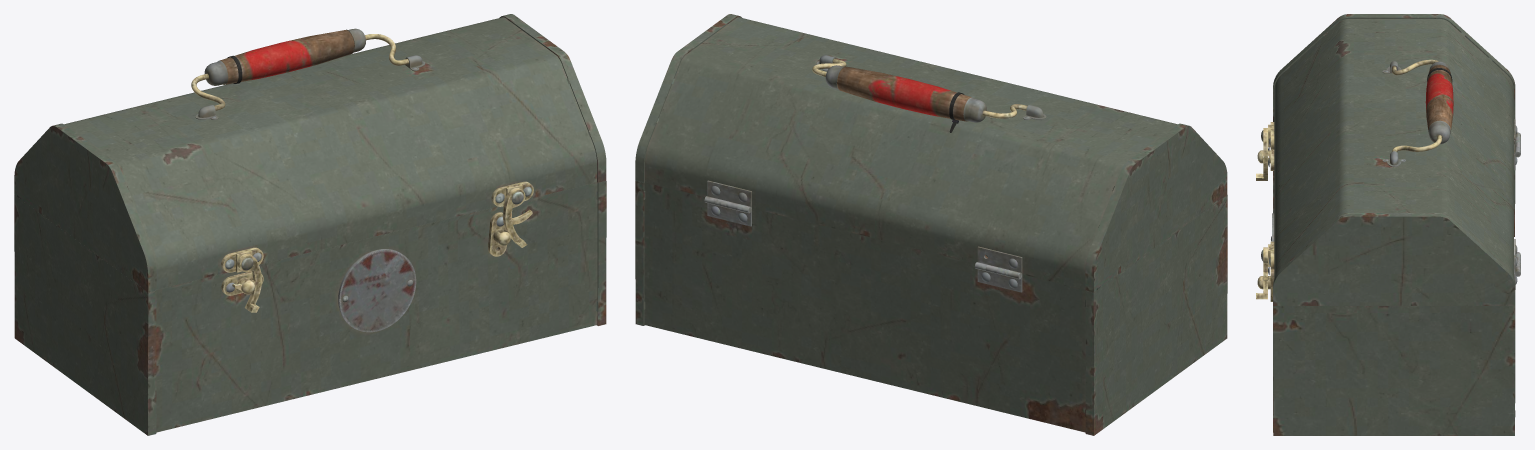
The model's file is metal_toolbox.glb.
The picture shows the model from 3 angles, left to right: view 1: azimuth 30°, elevation 25°; view 2: azimuth 150°, elevation 25°; view 3: azimuth 270°, elevation 25°; orthographic projection. The views are drawn at different scales.
Visible parts, largest first — view 1: LidHinge, Body, Handle, LatchR, LatchL; view 2: LidHinge, Body, Handle; view 3: LidHinge, Body, Handle, LatchL, LatchR.
Part boxes in pixels (x1=…): LidHinge: x1=14, y1=14, x2=606, y2=292; Body: x1=14, y1=181, x2=606, y2=435; Handle: x1=191, y1=28, x2=408, y2=110; LatchR: x1=503, y1=188, x2=532, y2=247; LatchL: x1=232, y1=253, x2=261, y2=312; LidHinge: x1=635, y1=14, x2=1227, y2=292; Body: x1=635, y1=181, x2=1227, y2=435; Handle: x1=812, y1=58, x2=1027, y2=132; LidHinge: x1=1261, y1=14, x2=1520, y2=305; Body: x1=1257, y1=107, x2=1520, y2=435; Handle: x1=1392, y1=59, x2=1453, y2=151; LatchL: x1=1256, y1=128, x2=1267, y2=180; LatchR: x1=1256, y1=247, x2=1267, y2=299.
Bounding box in the file's own units: 0.4 × 0.2247 × 0.2208.
Materials: 1 (1 with a texture image).
